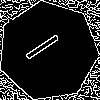I: (23, 26, 69, 63)
